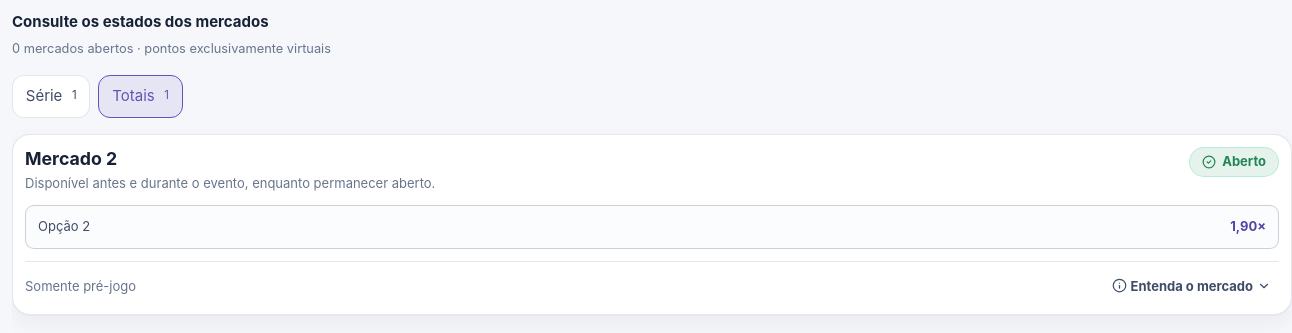
Test: hierarquia de mercados › abre uma categoria utilizável e mantém categorias encerradas consultáveis
Expected: the element named "Mercados: Totais" is shown, [12,134,1291,315]
Expected: the button "Opção 2 1,90×" is enabled, [25,205,1279,249]
Click the button "Série 1" at x=51, y=96, box [12,75,90,118]
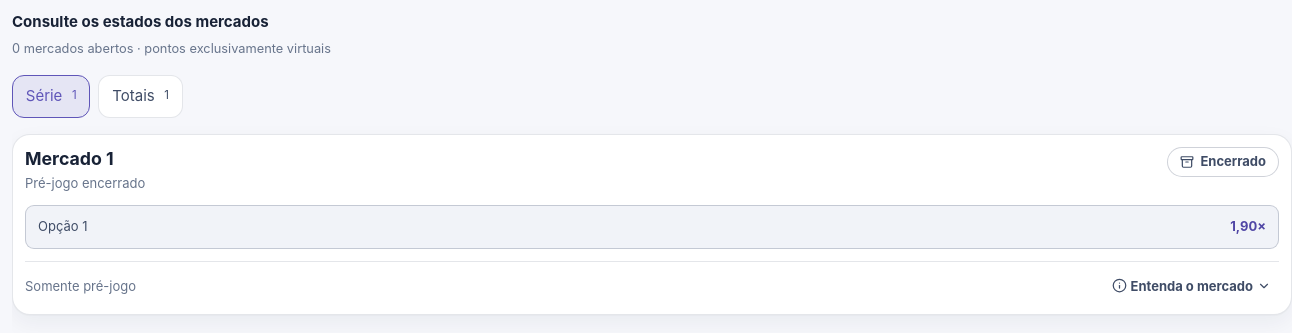
Expected: the button "Opção 1 1,90×" is disabled, [25,205,1279,249]
